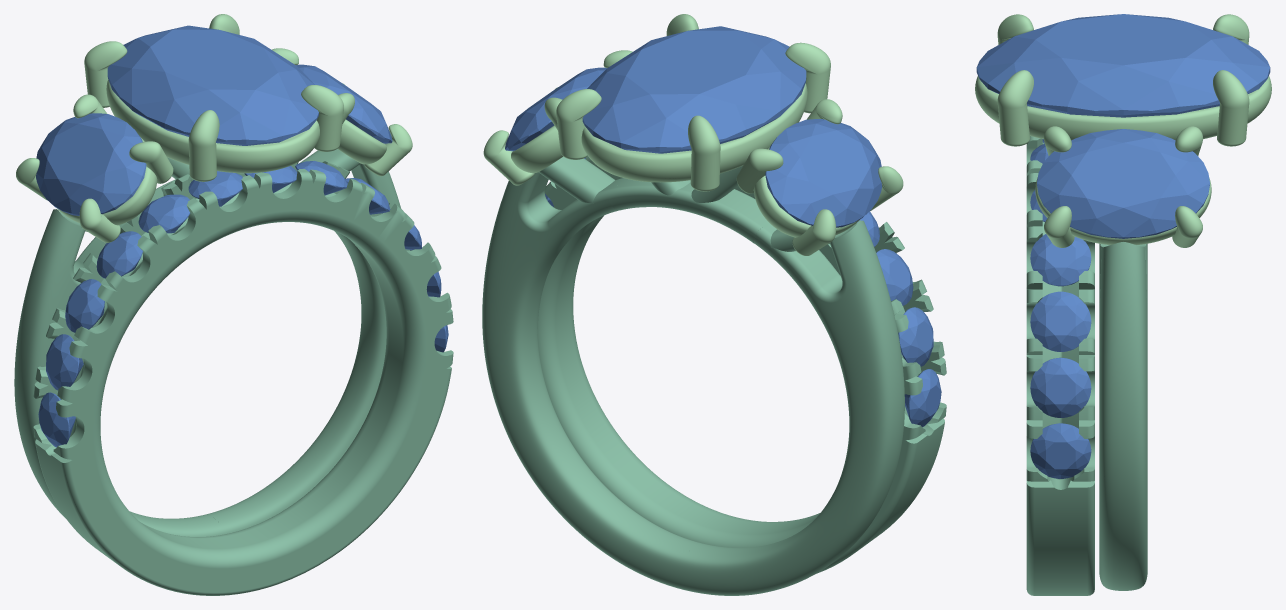
3 views of the same model, side by side, from view 1: azimuth 30°, elevation 25°; view 2: azimuth 150°, elevation 25°; view 3: azimuth 270°, elevation 25° (orthographic). The views are drawn at different scales.
Parts seen in each view (by area): view 1: Export_12_Blank.3dm, Gem (×10); view 2: Export_12_Blank.3dm, Gem (×6); view 3: Export_12_Blank.3dm, Gem (×6).
Boxes of the visible parts, left/top/right/bottom form: Export_12_Blank.3dm: left=14, top=14, right=453, bottom=595; Gem (×10): left=36, top=25, right=392, bottom=447; Export_12_Blank.3dm: left=482, top=14, right=946, bottom=595; Gem (×6): left=505, top=26, right=941, bottom=427; Export_12_Blank.3dm: left=975, top=14, right=1271, bottom=595; Gem (×6): left=976, top=14, right=1270, bottom=478.
Bounding box in the file's own units: 2.37 × 2.87 × 1.45.
